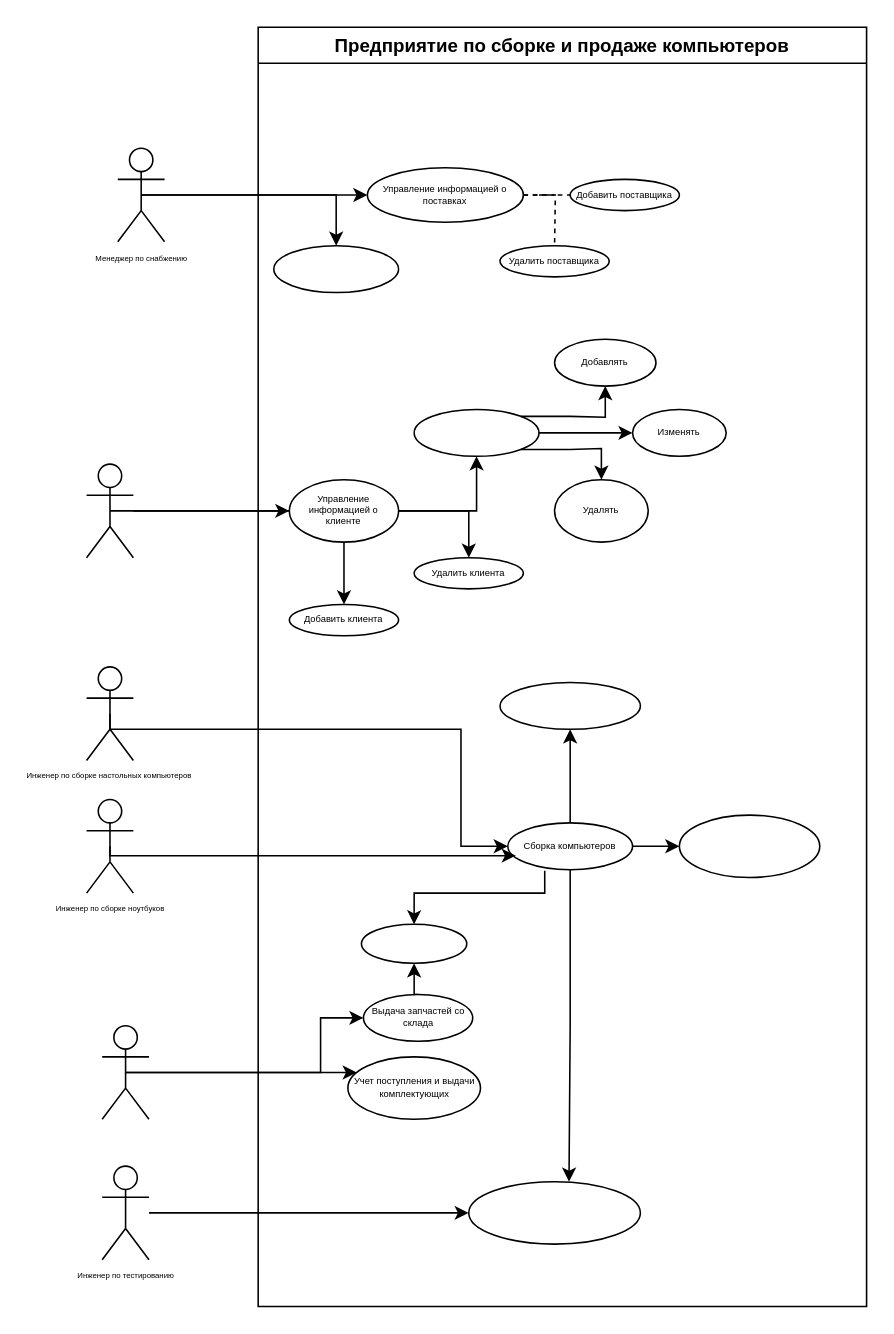
This 894x1334 diagram has some shape labels left out. Each missing label, with the box of its shape:
Завскладом: (101, 1024, 149, 1119)
Запрос необходимых комплектующих: (360, 923, 467, 963)
Менеджер по работе с клиентами: (85, 463, 133, 558)
Отмечать ход выполнения работы: (498, 681, 640, 729)
Просматривать наряды на сборку: (678, 814, 820, 878)
Работа с заказом: (413, 408, 539, 456)
Тест пк: (467, 1180, 640, 1244)
Управление о поставках: (272, 244, 399, 292)
